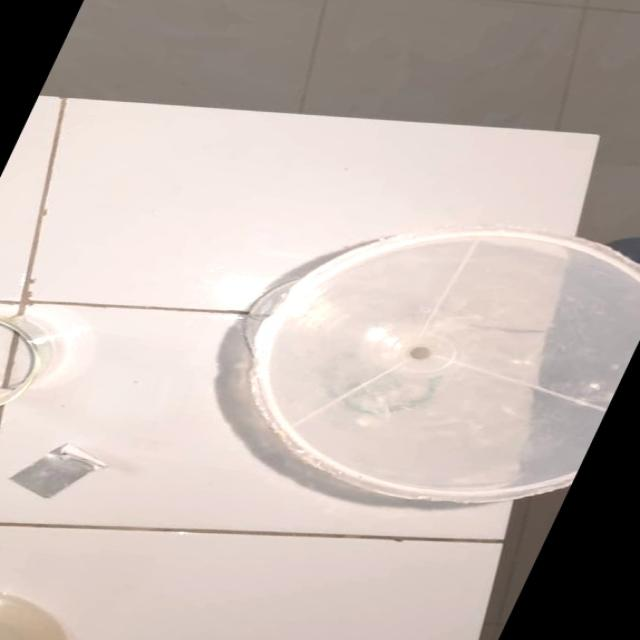Funnel: (185, 195, 640, 531)
